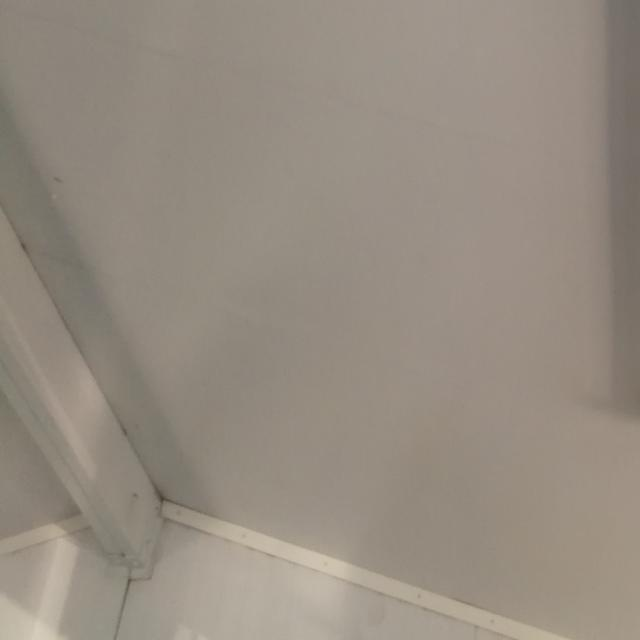fluorescent tube: (626, 0, 640, 491)
